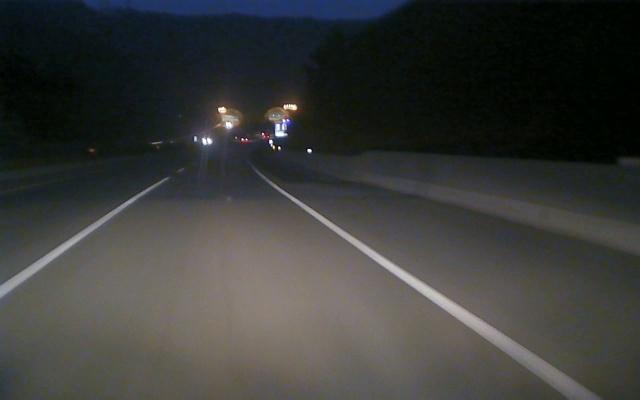lane: (259, 174, 607, 400), (0, 181, 163, 300)
